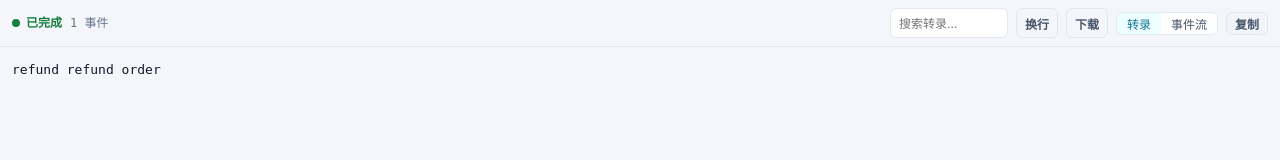
Scenario: SseConsole › 搜索命中数和高亮来自 token，而非事件 data
This screenshot has width=1280, height=160.
Type "refund" into the search field with placeholder "搜索转录…".
click(949, 23); type("refund")  # box [890,8,1008,38]
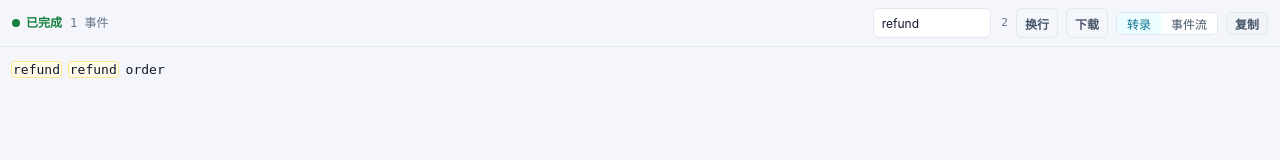
Now the text with class "sse__search-count" reads "2", box [1001,16,1008,30]
Now the number of elements with class "sse__hit" is 2, box [12,62,61,77]; [69,62,118,77]
